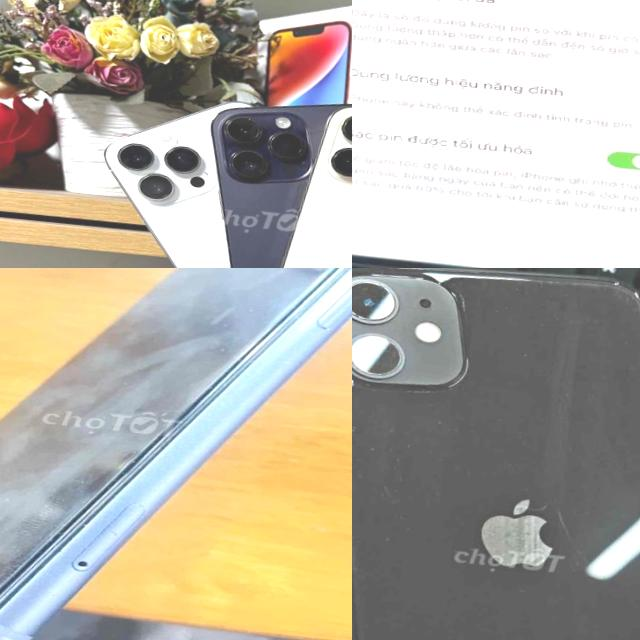scratch: (458, 484, 614, 596), (479, 268, 640, 346), (0, 550, 83, 640), (352, 407, 409, 513)
